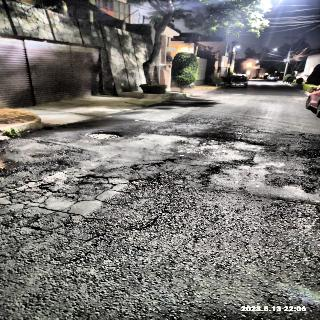alligator-crack: (3, 196, 170, 258)
pothole: (15, 155, 130, 196), (130, 148, 238, 184), (82, 126, 134, 148), (175, 219, 190, 221), (179, 229, 189, 229)
